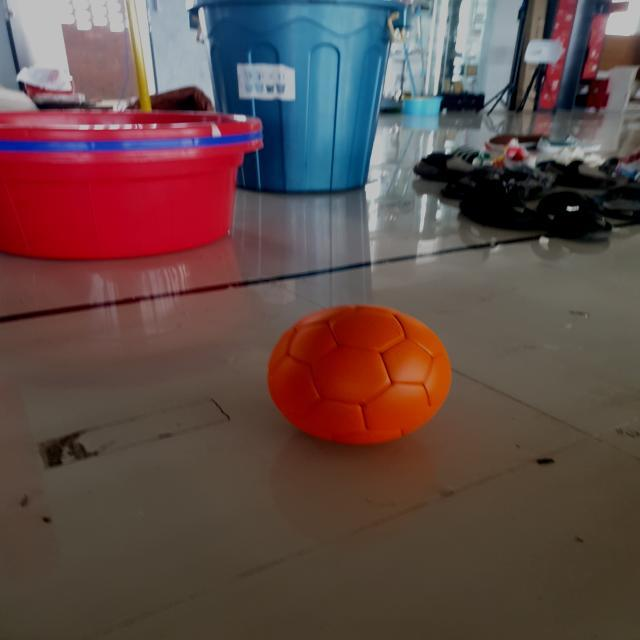bola: (268, 298, 448, 452)
